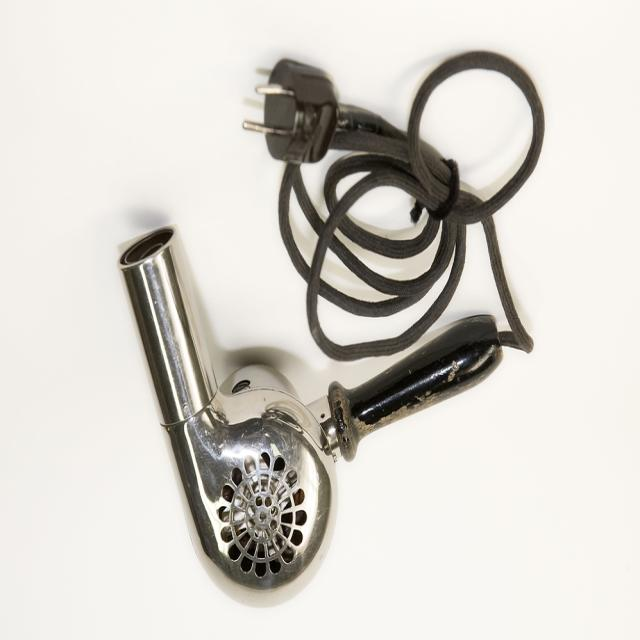dryer: (110, 190, 530, 627)
